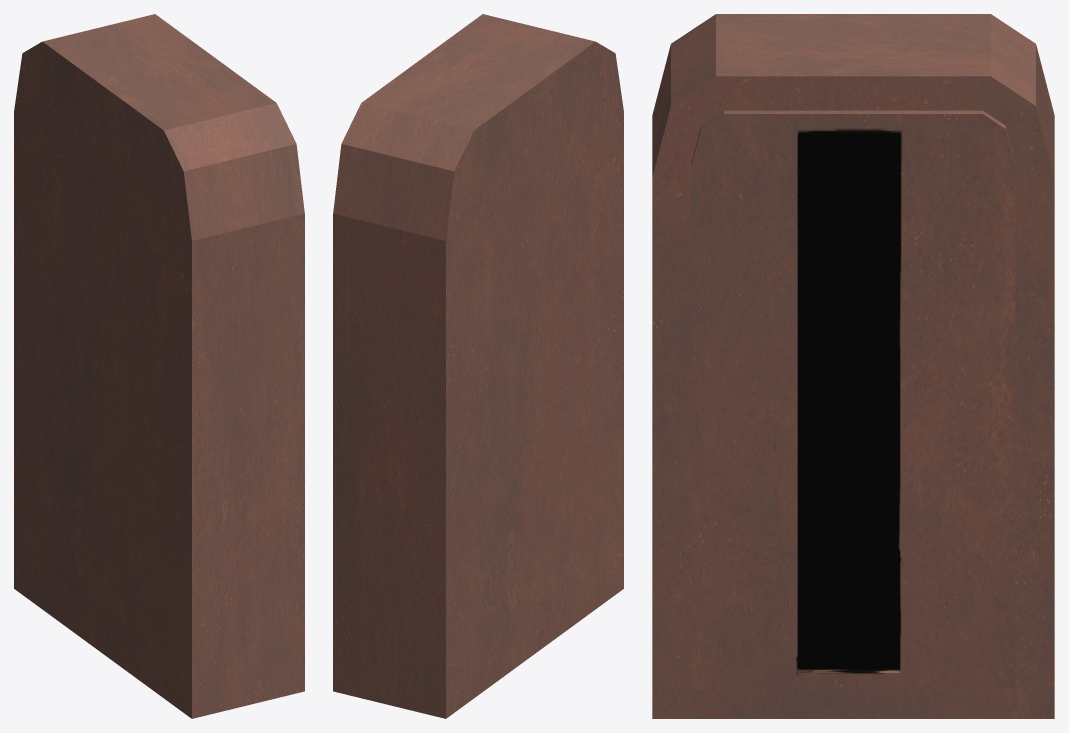
The model's file is Turbo.glb.
3 renders of one model, left to right at view 1: azimuth 30°, elevation 25°; view 2: azimuth 150°, elevation 25°; view 3: azimuth 270°, elevation 25°, orthographic. The views are drawn at different scales.
Parts seen in each view (by area): view 1: Cube; view 2: Cube; view 3: Cube.
Boxes of the visible parts, x1,y1,x2,y2 form: Cube: (14, 14, 304, 718); Cube: (333, 14, 623, 718); Cube: (652, 14, 1054, 718).
Bounding box in the file's own units: 2 × 9.14 × 5.19.
1 material, 1 textured.
